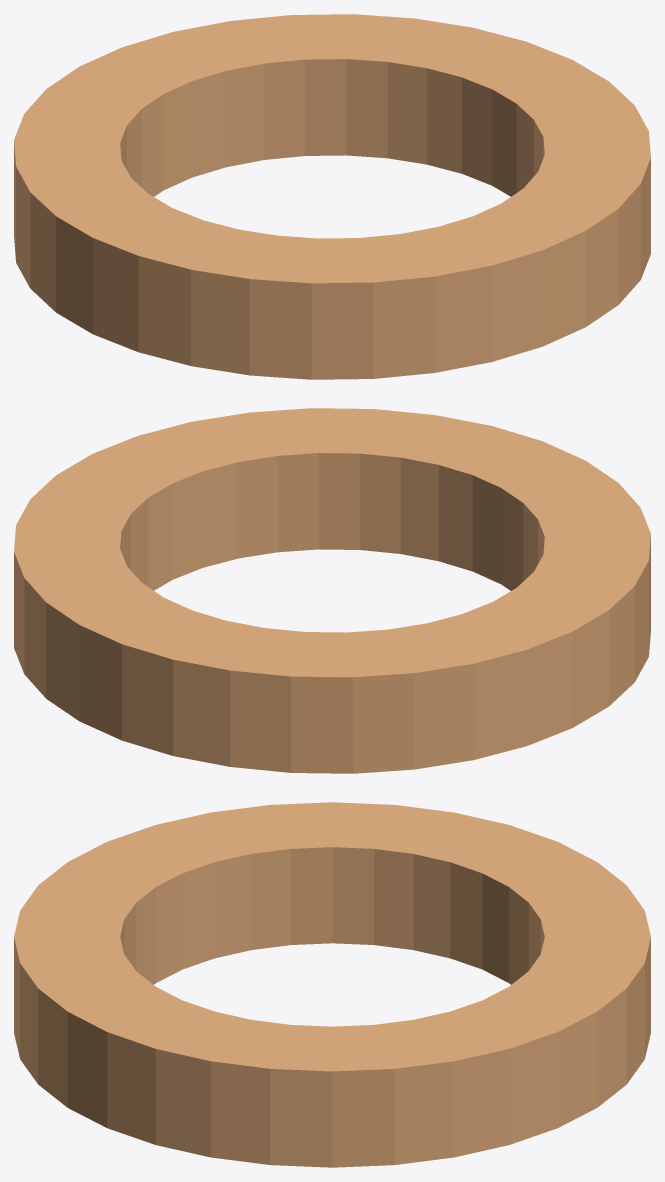
File: Arc02.glb
3 renders of one model, top to bottom at view 1: azimuth 30°, elevation 25°; view 2: azimuth 150°, elevation 25°; view 3: azimuth 270°, elevation 25°, orthographic.
Visible parts, largest first — view 1: Arc.02; view 2: Arc.02; view 3: Arc.02.
Boxes of the visible parts, x1=… form: Arc.02: x1=14, y1=14, x2=650, y2=379; Arc.02: x1=14, y1=408, x2=650, y2=773; Arc.02: x1=14, y1=802, x2=650, y2=1167.
Size of the model in its own units: 6 by 1 by 6.
